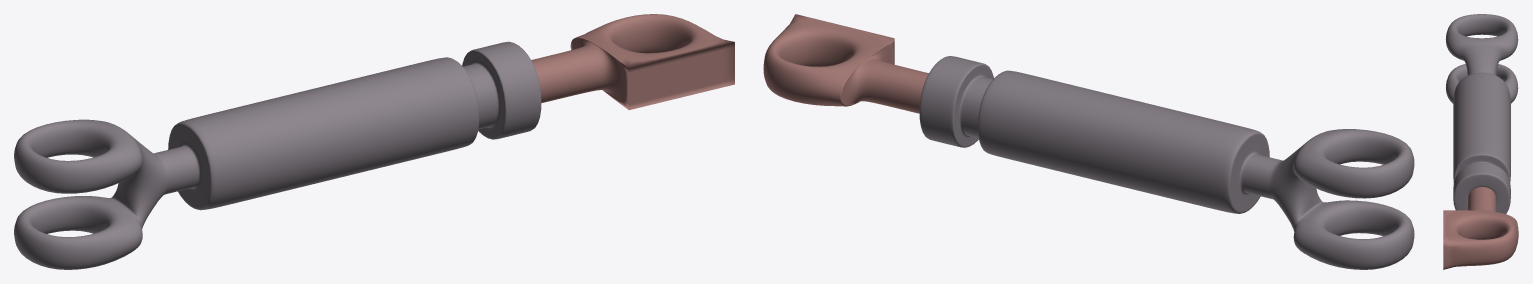
File: piston.fbx
The picture shows the model from 3 angles, left to right: view 1: azimuth 30°, elevation 25°; view 2: azimuth 150°, elevation 25°; view 3: azimuth 270°, elevation 25°; orthographic projection. The views are drawn at different scales.
Visible parts, largest first — view 1: Circle.001, Circle; view 2: Circle.001, Circle; view 3: Circle.001, Circle.
Boxes of the visible parts, <box> form: Circle.001: <box>14,41,541,269</box>; Circle: <box>531,14,734,110</box>; Circle.001: <box>919,56,1414,269</box>; Circle: <box>763,14,928,113</box>; Circle.001: <box>1445,14,1518,213</box>; Circle: <box>1443,187,1518,269</box>.
Size of the model in its own units: 2061 by 317 by 312.
